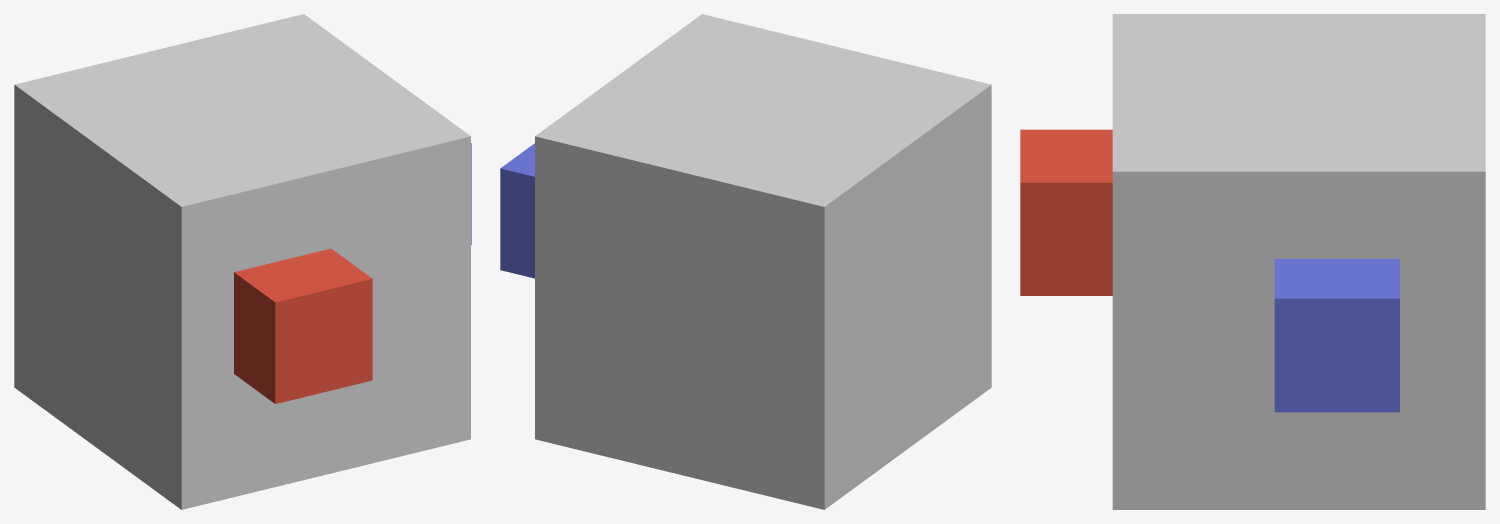
3 views of the same model, side by side, from view 1: azimuth 30°, elevation 25°; view 2: azimuth 150°, elevation 25°; view 3: azimuth 270°, elevation 25° (orthographic). The views are drawn at different scales.
Parts seen in each view (by area): view 1: Cube, Button Left; view 2: Cube, Button Right; view 3: Cube, Button Right, Button Left.
Boxes of the visible parts, <box> form: Cube: <box>14,14,470,509</box>; Button Left: <box>234,248,372,403</box>; Cube: <box>535,14,991,509</box>; Button Right: <box>500,143,534,278</box>; Cube: <box>1112,14,1485,509</box>; Button Right: <box>1274,259,1399,412</box>; Button Left: <box>1020,129,1112,295</box>.
Size of what is drawn, in the model's own units: 2.5 by 2 by 2.5.
